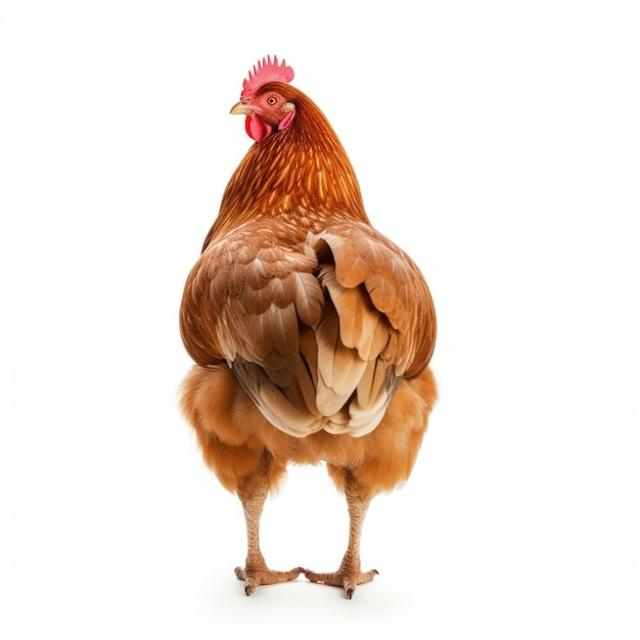Chicken: (176, 56, 438, 598)
